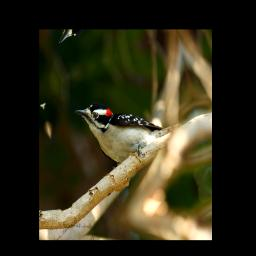Woodpecker: (73, 65, 187, 182)
